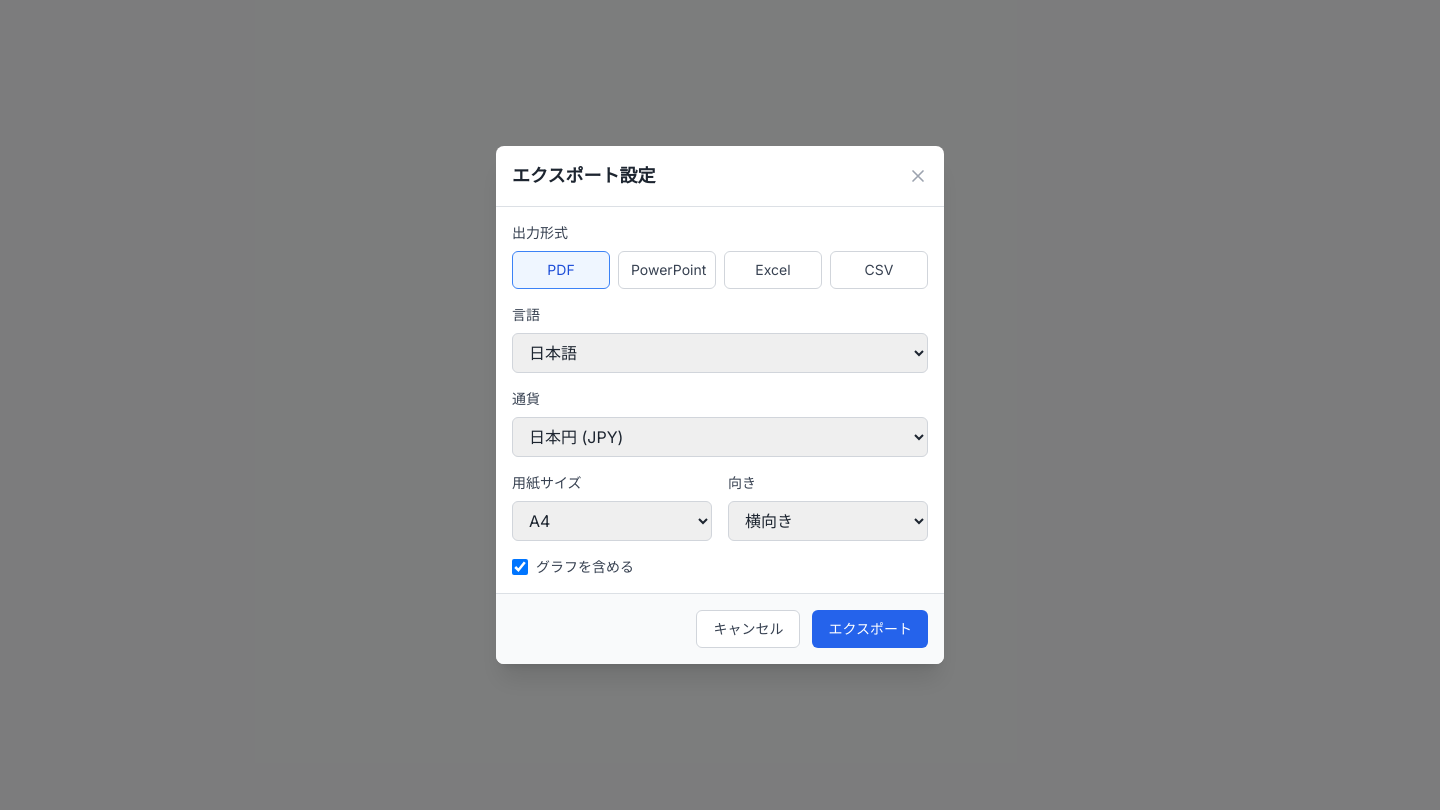
it: ExportModal › shows the exchange-rate input only when currency is dual
Expected: the text "為替レート (USD/JPY)" is not shown
Select "二通貨表示" in the dropdown showing "日本円 (JPY)" at coordinates (720, 437), box [512,417,928,457]
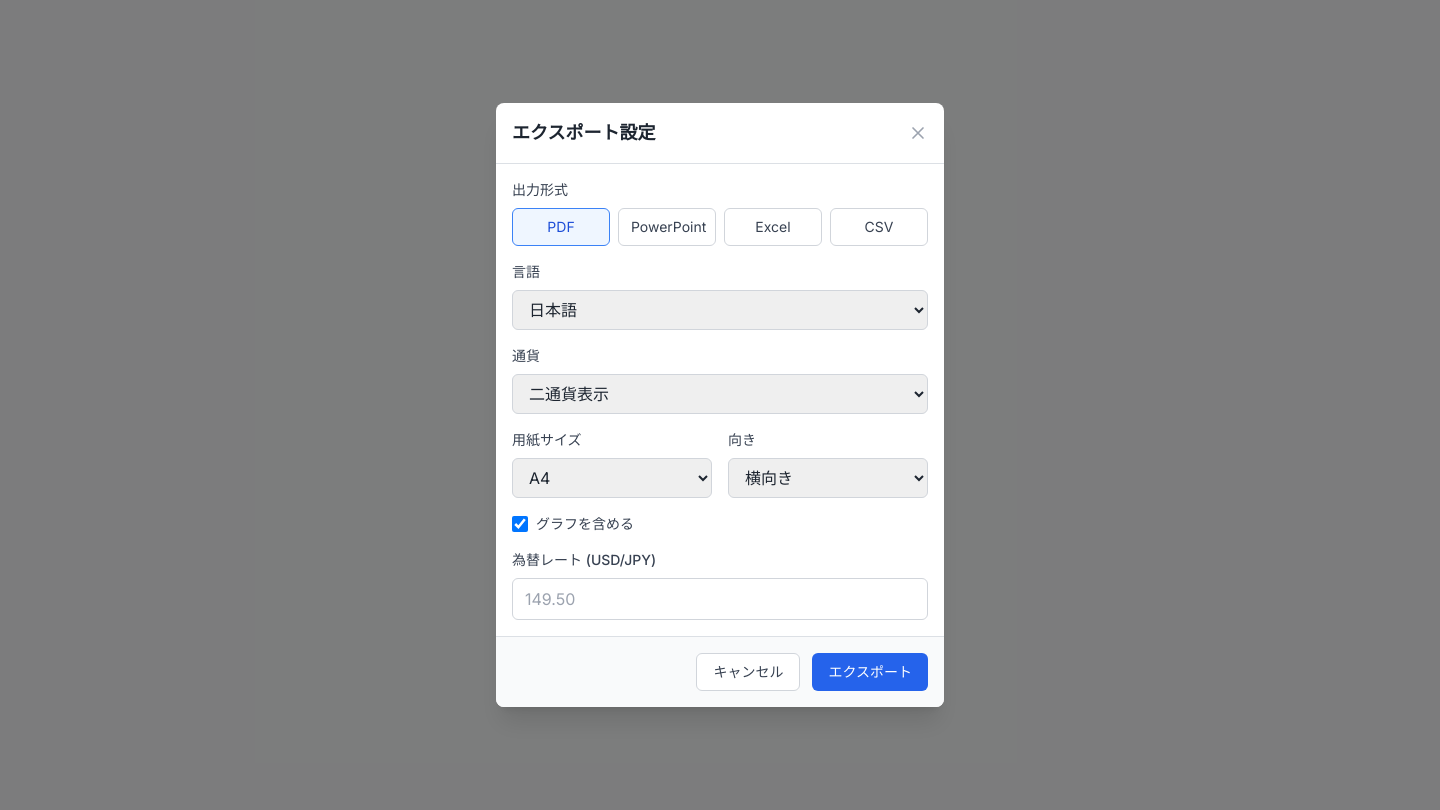
Expected: the text "為替レート (USD/JPY)" is shown, [512,551,656,568]
